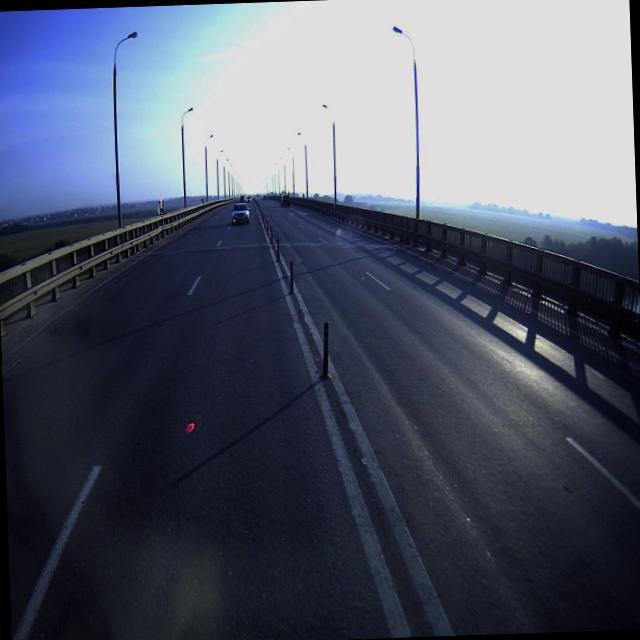road: (1, 200, 640, 640)
